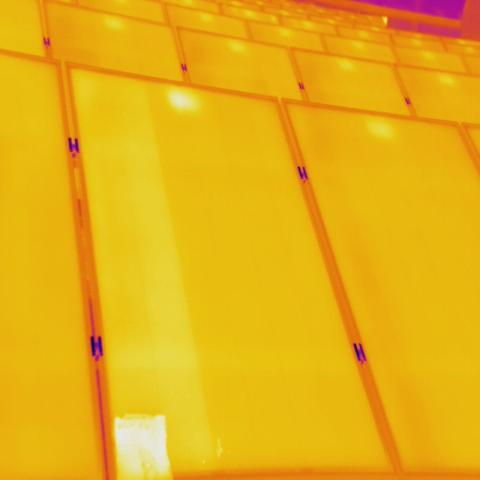fault: (116, 413, 165, 480), (167, 86, 197, 114)
